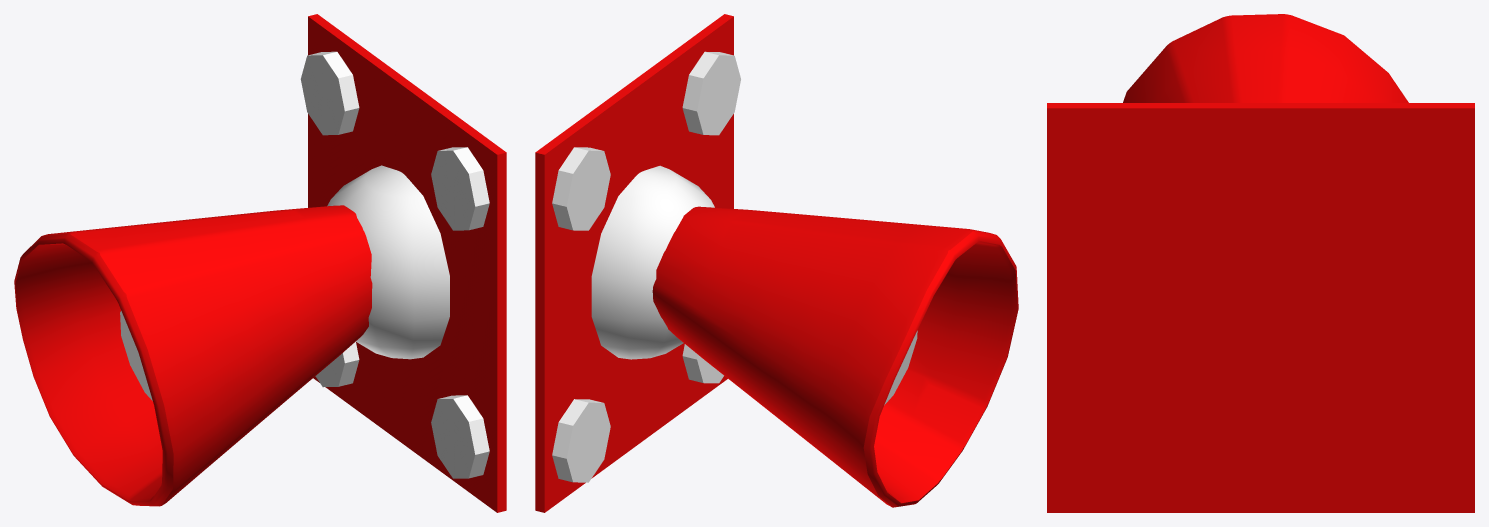
The model's file is Megaphone.fbx.
3 renders of one model, left to right at view 1: azimuth 30°, elevation 25°; view 2: azimuth 150°, elevation 25°; view 3: azimuth 270°, elevation 25°, orthographic. The views are drawn at different scales.
Parts seen in each view (by area): view 1: Cylinder001, Box001, Sphere001, Cylinder004, Cylinder005, Cylinder003, Cylinder002, Cylinder006; view 2: Cylinder001, Box001, Sphere001, Cylinder002, Cylinder003, Cylinder004, Cylinder005; view 3: Box001, Cylinder001.
Part boxes in pixels (<box>): Cylinder001: <box>14,205,372,506</box>; Box001: <box>308,14,506,512</box>; Sphere001: <box>327,165,449,359</box>; Cylinder004: <box>431,147,489,230</box>; Cylinder005: <box>431,395,489,478</box>; Cylinder003: <box>300,51,359,135</box>; Cylinder002: <box>315,341,359,387</box>; Cylinder006: <box>120,311,152,400</box>; Cylinder001: <box>652,206,1018,507</box>; Box001: <box>535,14,733,512</box>; Sphere001: <box>591,165,714,359</box>; Cylinder002: <box>552,399,610,482</box>; Cylinder003: <box>552,147,610,230</box>; Cylinder004: <box>682,51,740,135</box>; Cylinder005: <box>682,344,723,383</box>; Box001: <box>1047,103,1474,512</box>; Cylinder001: <box>1123,14,1408,102</box>.
Size of the model in its own units: 19.43 by 19.63 by 18.81.
2 materials, 2 textured.
